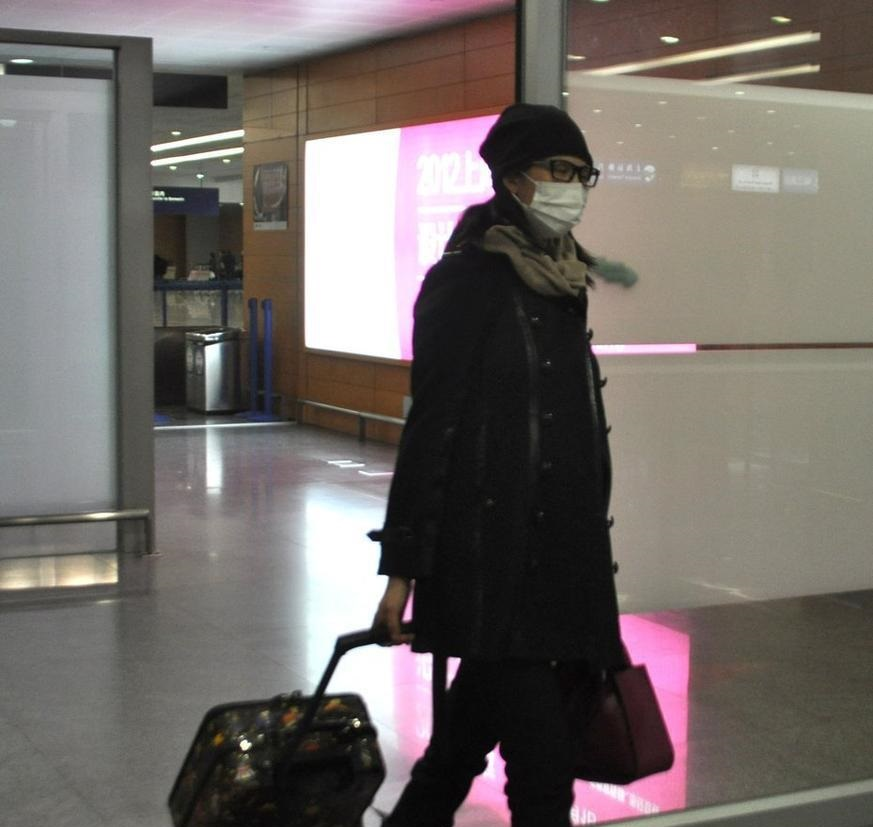face_mask: (526, 146, 587, 231)
